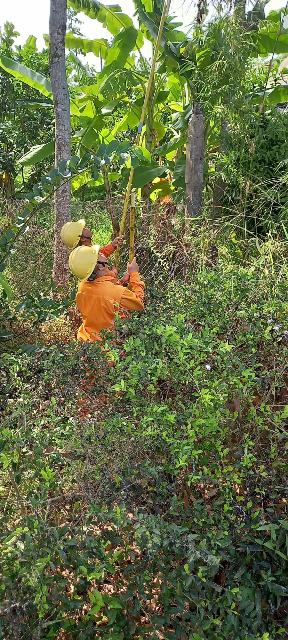helmet: (62, 244, 110, 287), (54, 217, 96, 247)
